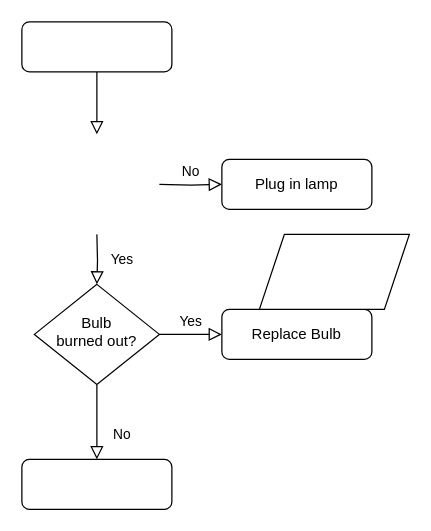
The diagram is 431 pixels wide and 531 high, and some of its shapes have lost their labels. The centre of each missing label's shape, as x and y in pixels:
"program mulai" belongs at [96,46].
"Repair Lamp" belongs at [96,483].
